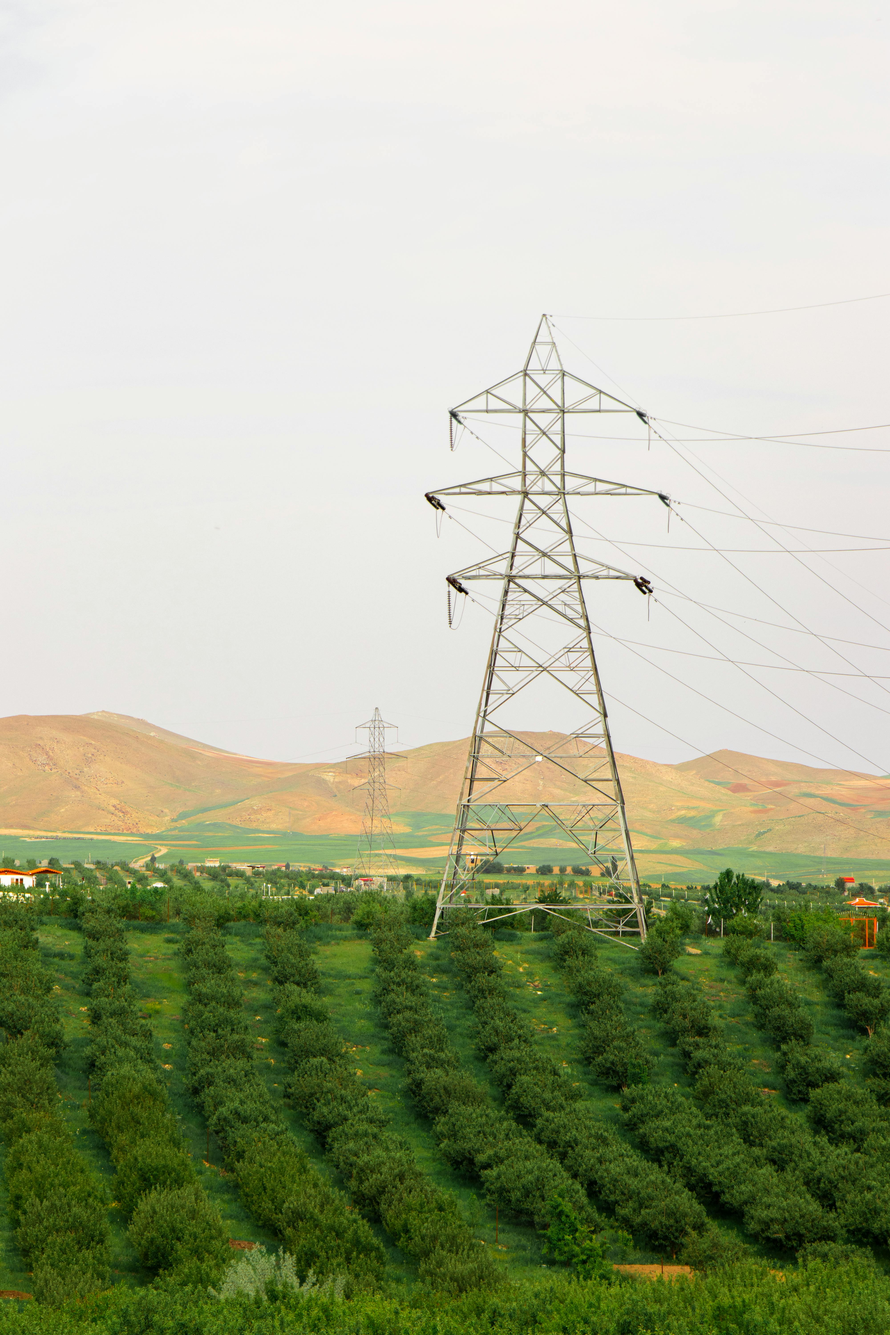insulator: (631, 574, 653, 601), (447, 574, 471, 598), (442, 586, 455, 626), (424, 494, 451, 510), (448, 411, 458, 453)
